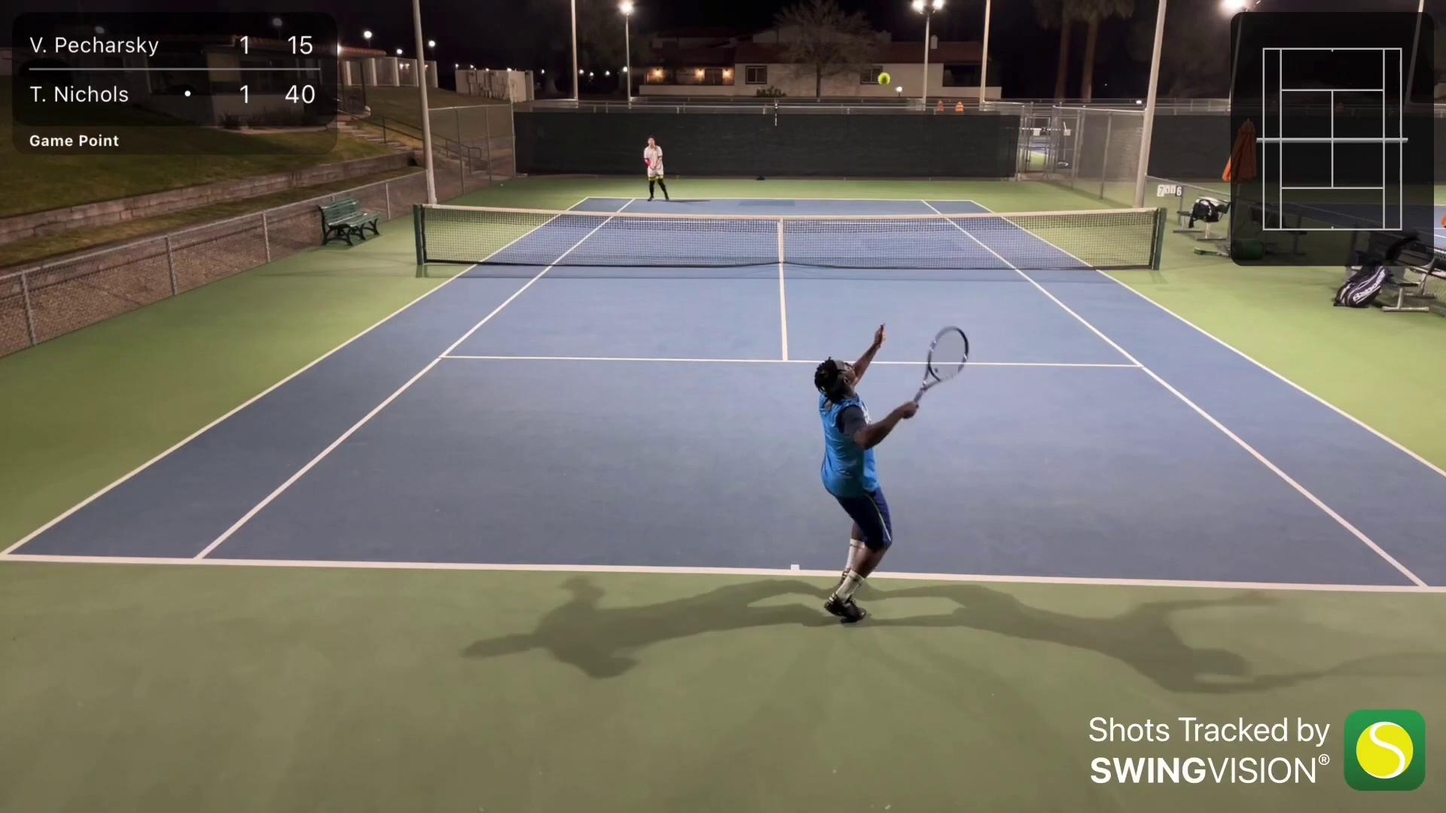ball: (876, 73, 893, 87)
